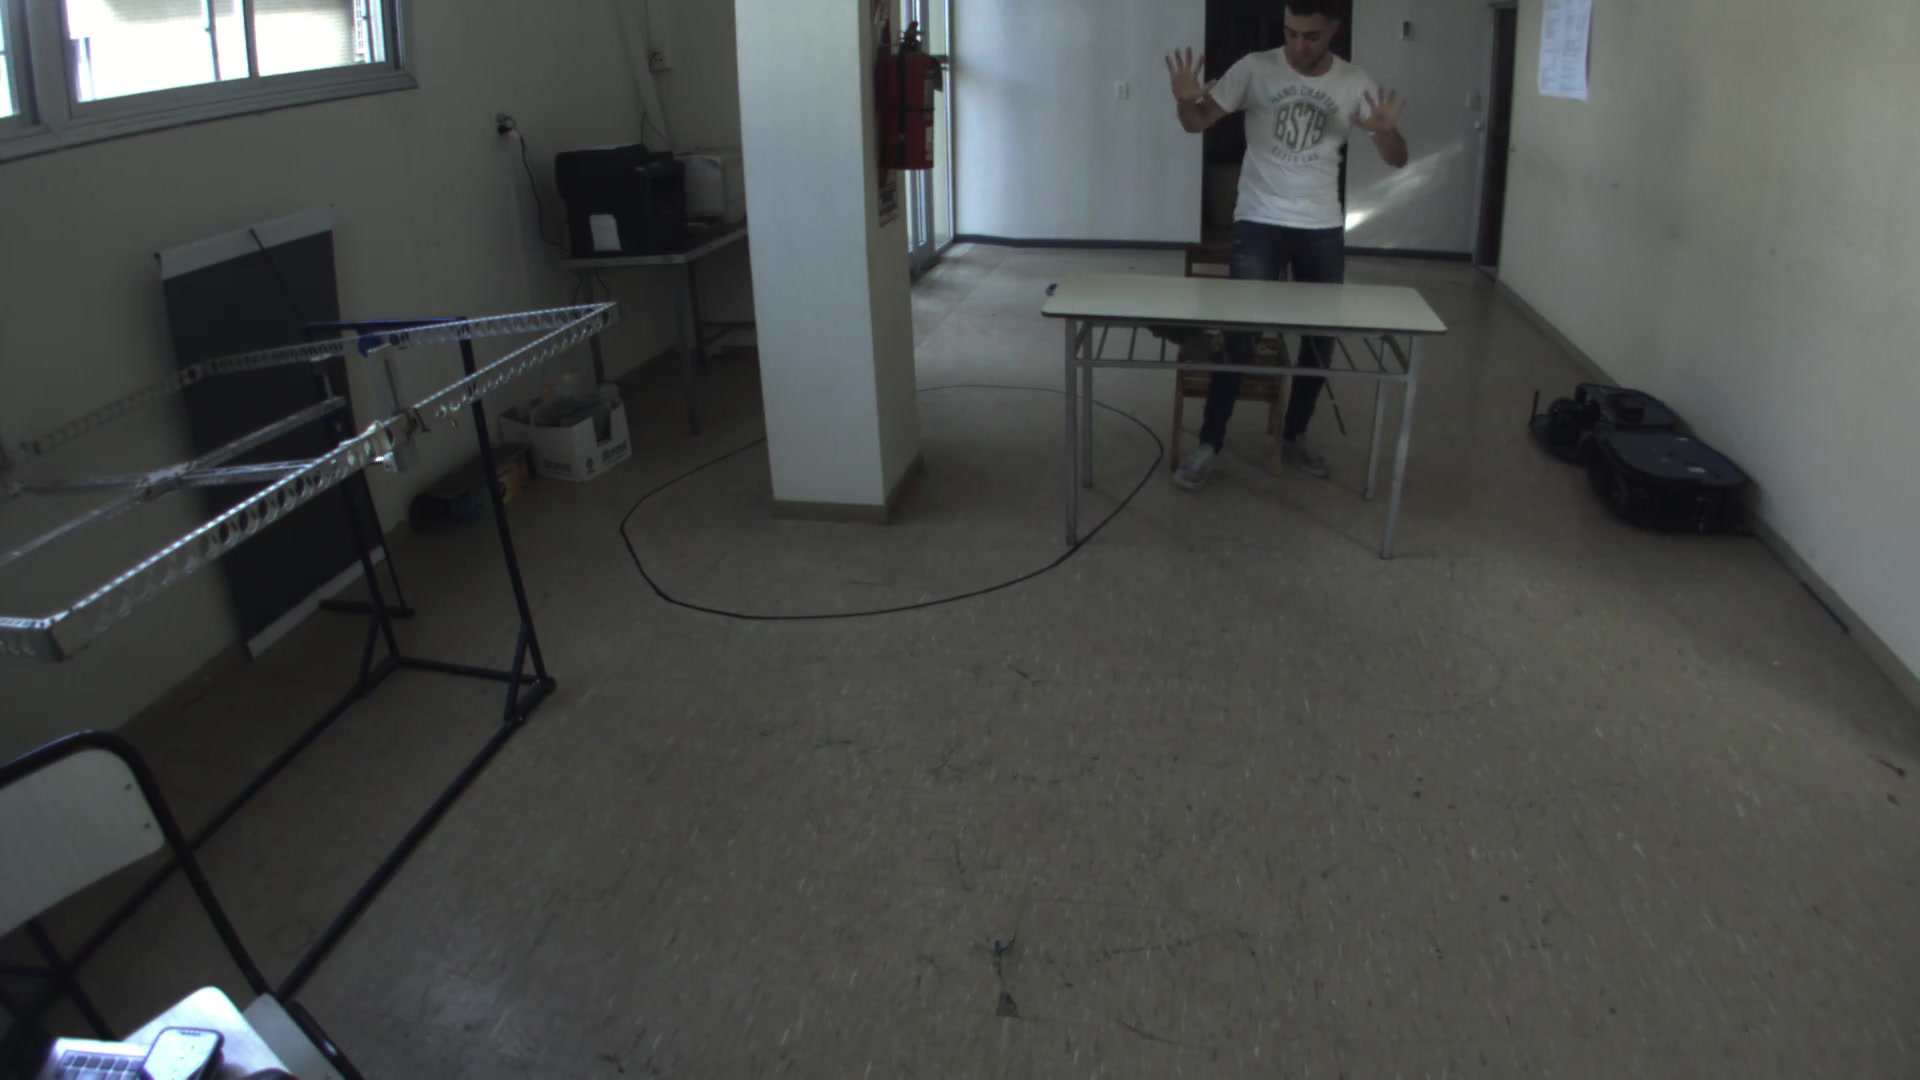hand: (1160, 37, 1228, 131), (1360, 84, 1419, 158)
